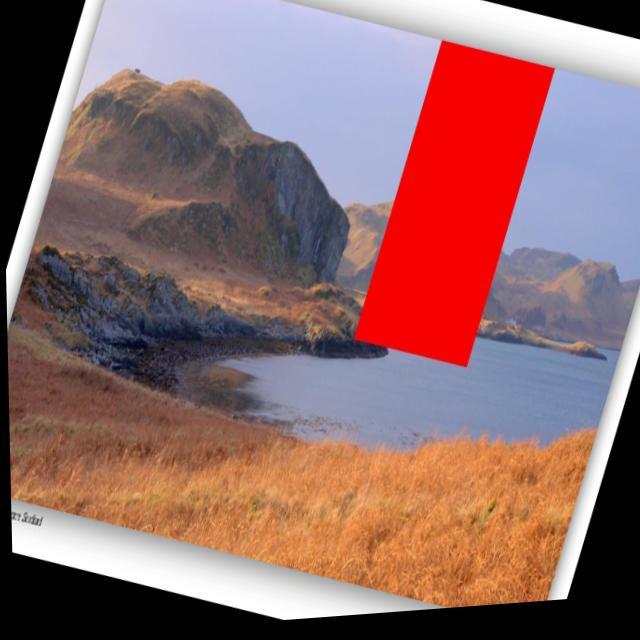RedSquare: (341, 39, 564, 387)
